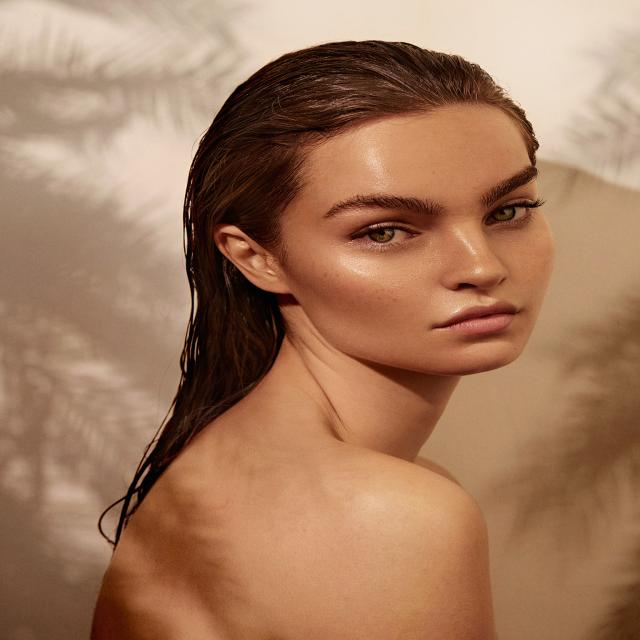earlobe: (213, 223, 291, 295)
